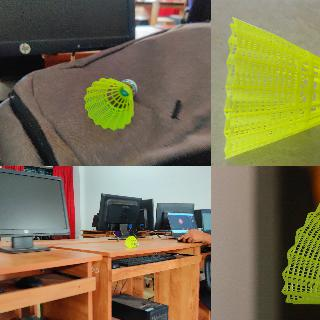shuttlecock: (223, 17, 319, 160), (281, 199, 319, 318), (84, 78, 138, 130), (126, 237, 138, 247)
